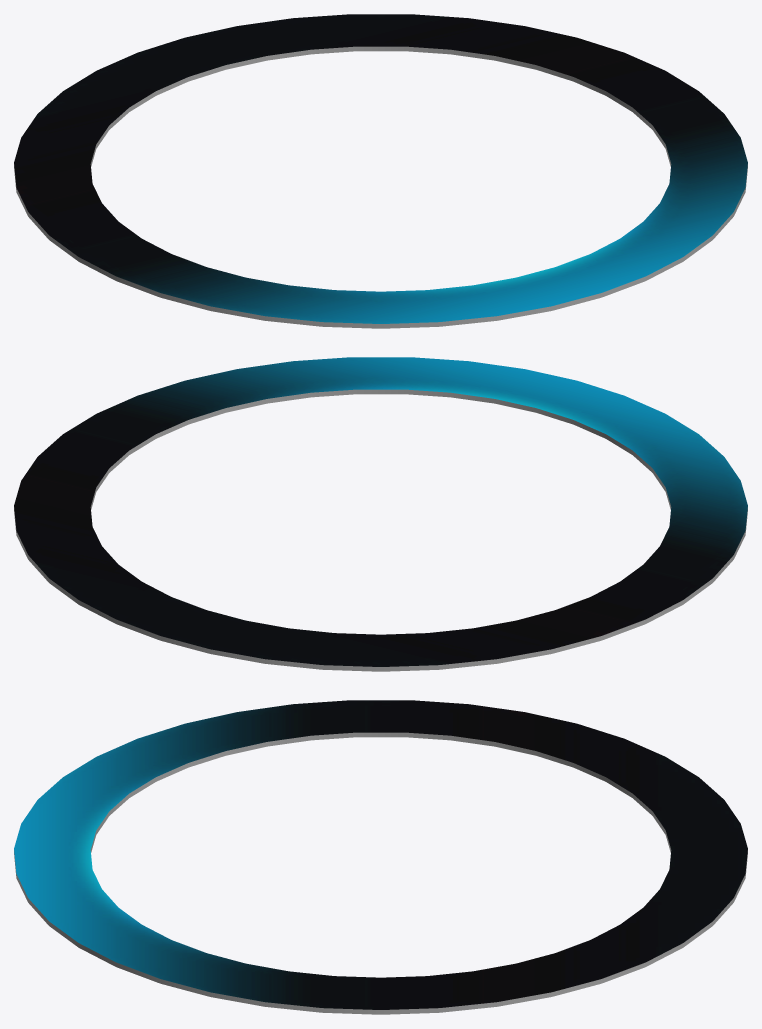
The model's file is spinning_circle.fbx.
3 views of the same model, one above another, from view 1: azimuth 30°, elevation 25°; view 2: azimuth 150°, elevation 25°; view 3: azimuth 270°, elevation 25° (orthographic).
Visible parts, largest first — view 1: circle; view 2: circle; view 3: circle.
Part boxes in pixels (x1,y1,x2,y2): circle: (14,14,747,328); circle: (14,357,747,671); circle: (14,700,747,1014).
Bounding box in the file's own units: 0.9553 × 0.00675 × 0.956.
3 materials, 2 textured.
